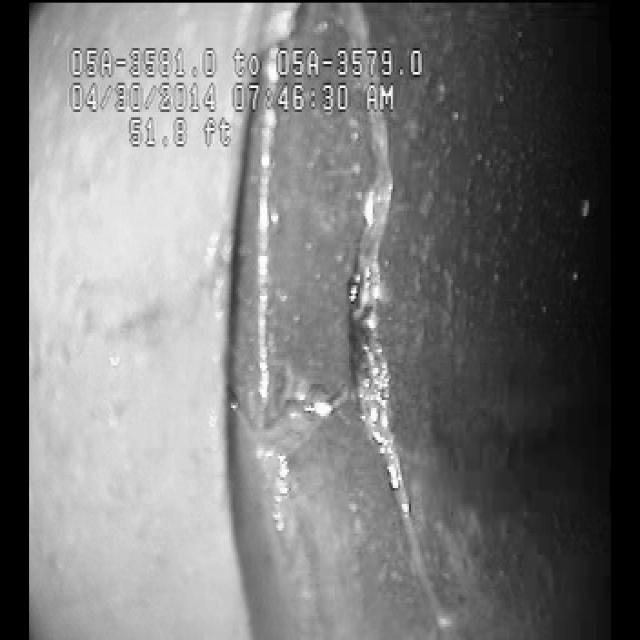Crack: (324, 127, 439, 538)
